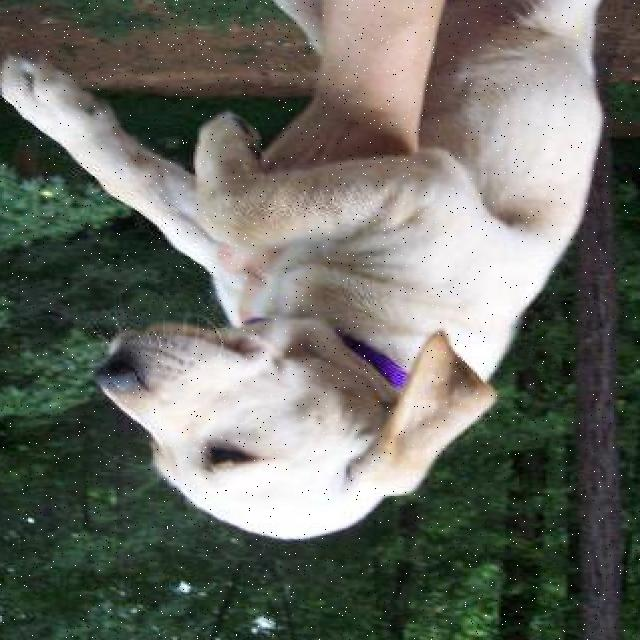Dog: (86, 292, 516, 558)
